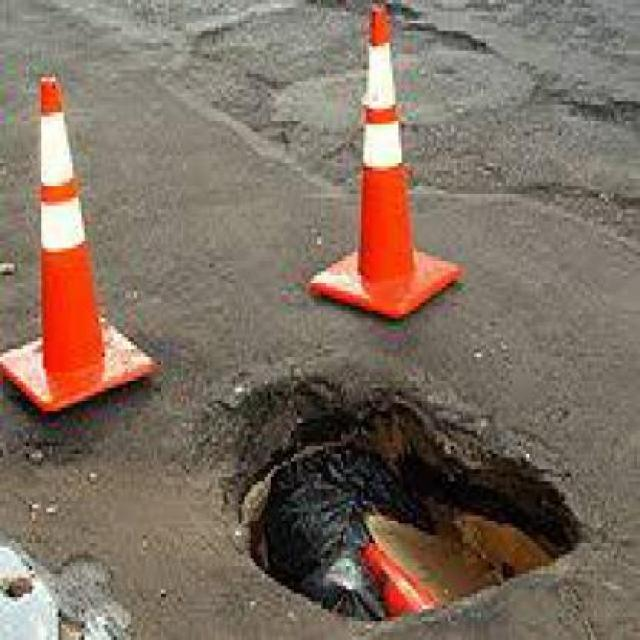pothole: (197, 357, 588, 625)
